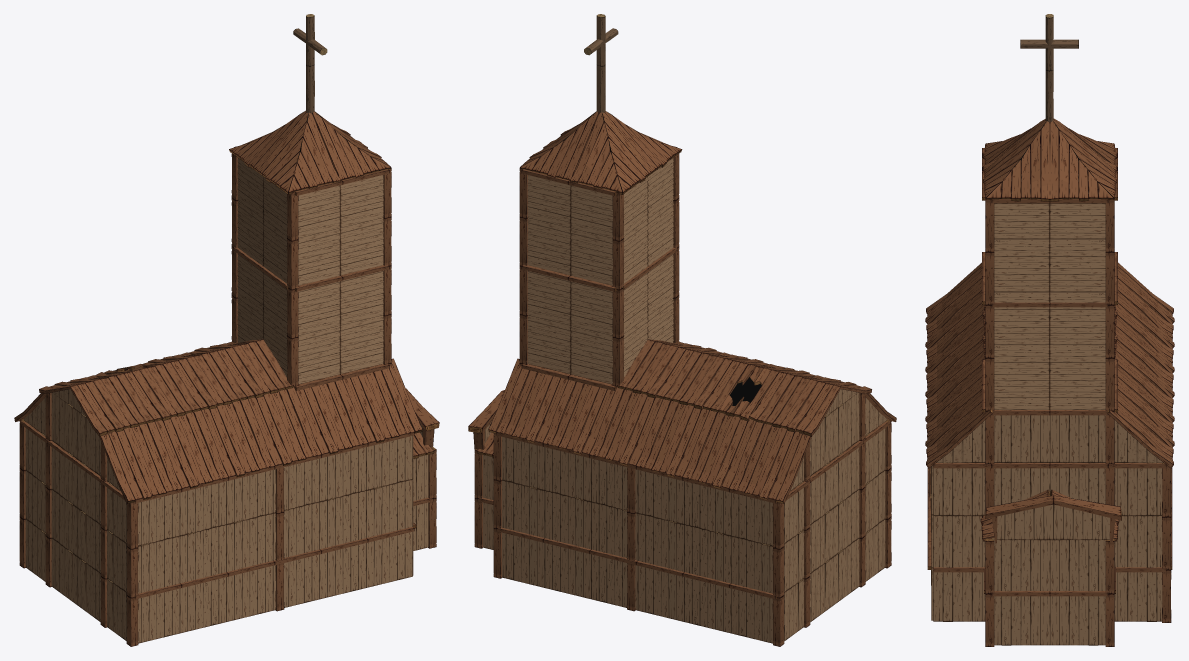
The model's file is kosciol test.fbx.
The picture shows the model from 3 angles, left to right: view 1: azimuth 30°, elevation 25°; view 2: azimuth 150°, elevation 25°; view 3: azimuth 270°, elevation 25°; orthographic projection. The views are drawn at different scales.
Visible parts, largest first — view 1: Dach.Drewno1 narożnik zewnątrz.004, Dach.Drewno1.035, Dach.Drewno1.034, Dach.Drewno1.032, Dach.Drewno1.033, Dach.Drewno1.030, Dach.Drewno1.031, Dach.Drewno1 1/2.018, Dach.Drewno1 1/2.017, Dach.Drewno1 1/2.016, Dach.Drewno1 1/2.015, ŚcianaDechyPionowe1.044 (+54 smaller); view 2: Dach.Drewno1 narożnik zewnątrz.003, Dach.Drewno1.029, Dach.Drewno1.028, Dach.Drewno1.027, Dach.Drewno1.026, Dach.Drewno1.020, Dach.Drewno1.024, Dach.Drewno1 1/2.013, Dach.Drewno1 1/2.011, Dach.Drewno1 1/2 rozjebany.002, Dach.Drewno1 1/2.008, ŚcianaDechyPionowe1.012 (+52 smaller); view 3: Fasada drewniane deski poziome1.003, Dach.Drewno1 narożnik zewnątrz.002, Dach.Drewno1 narożnik zewnątrz.001, ŚcianaDechySaloon1.065, ŚcianaDechyPionowe1.069, ŚcianaDechySaloon1.064, ŚcianaDechySaloon1.049, ŚcianaDechySaloon1.048, ŚcianaDechyPionowe1.033, ŚcianaDechySaloon1.057, ŚcianaDechyPionowe1.070, ŚcianaDechyPionowe1.034 (+54 smaller).
Part boxes in pixels (<box>): Dach.Drewno1 narożnik zewnątrz.004: <box>257,112,341,194</box>; Dach.Drewno1.035: <box>108,421,181,499</box>; Dach.Drewno1.034: <box>155,410,228,488</box>; Dach.Drewno1.032: <box>248,387,321,465</box>; Dach.Drewno1.033: <box>201,399,274,477</box>; Dach.Drewno1.030: <box>341,364,414,443</box>; Dach.Drewno1.031: <box>296,374,367,454</box>; Dach.Drewno1 1/2.018: <box>77,373,153,432</box>; Dach.Drewno1 1/2.017: <box>124,362,200,421</box>; Dach.Drewno1 1/2.016: <box>171,350,247,410</box>; Dach.Drewno1 1/2.015: <box>217,339,293,398</box>; ŚcianaDechyPionowe1.044: <box>319,490,366,549</box>; Dach.Drewno1 narożnik zewnątrz.003: <box>570,112,653,194</box>; Dach.Drewno1.029: <box>729,421,802,499</box>; Dach.Drewno1.028: <box>682,410,756,488</box>; Dach.Drewno1.027: <box>636,399,709,477</box>; Dach.Drewno1.026: <box>589,387,662,465</box>; Dach.Drewno1.020: <box>496,364,569,443</box>; Dach.Drewno1.024: <box>543,374,614,454</box>; Dach.Drewno1 1/2.013: <box>757,373,833,432</box>; Dach.Drewno1 1/2.011: <box>664,350,740,410</box>; Dach.Drewno1 1/2 rozjebany.002: <box>710,362,786,421</box>; Dach.Drewno1 1/2.008: <box>617,339,693,398</box>; ŚcianaDechyPionowe1.012: <box>684,525,731,583</box>; Fasada drewniane deski poziome1.003: <box>985,495,1121,543</box>; Dach.Drewno1 narożnik zewnątrz.002: <box>1049,120,1116,201</box>; Dach.Drewno1 narożnik zewnątrz.001: <box>983,120,1050,201</box>; ŚcianaDechySaloon1.065: <box>1049,357,1105,409</box>; ŚcianaDechyPionowe1.069: <box>992,538,1050,591</box>; ŚcianaDechySaloon1.064: <box>994,357,1049,409</box>; ŚcianaDechySaloon1.049: <box>1049,251,1105,302</box>; ŚcianaDechySaloon1.048: <box>994,251,1049,302</box>; ŚcianaDechyPionowe1.033: <box>1050,539,1107,591</box>; ŚcianaDechySaloon1.057: <box>1049,307,1105,356</box>; ŚcianaDechyPionowe1.070: <box>994,596,1050,645</box>; ŚcianaDechyPionowe1.034: <box>1050,596,1105,645</box>.
Size of the model in its own units: 2196 by 3282 by 1280.
2 materials, 2 textured.
